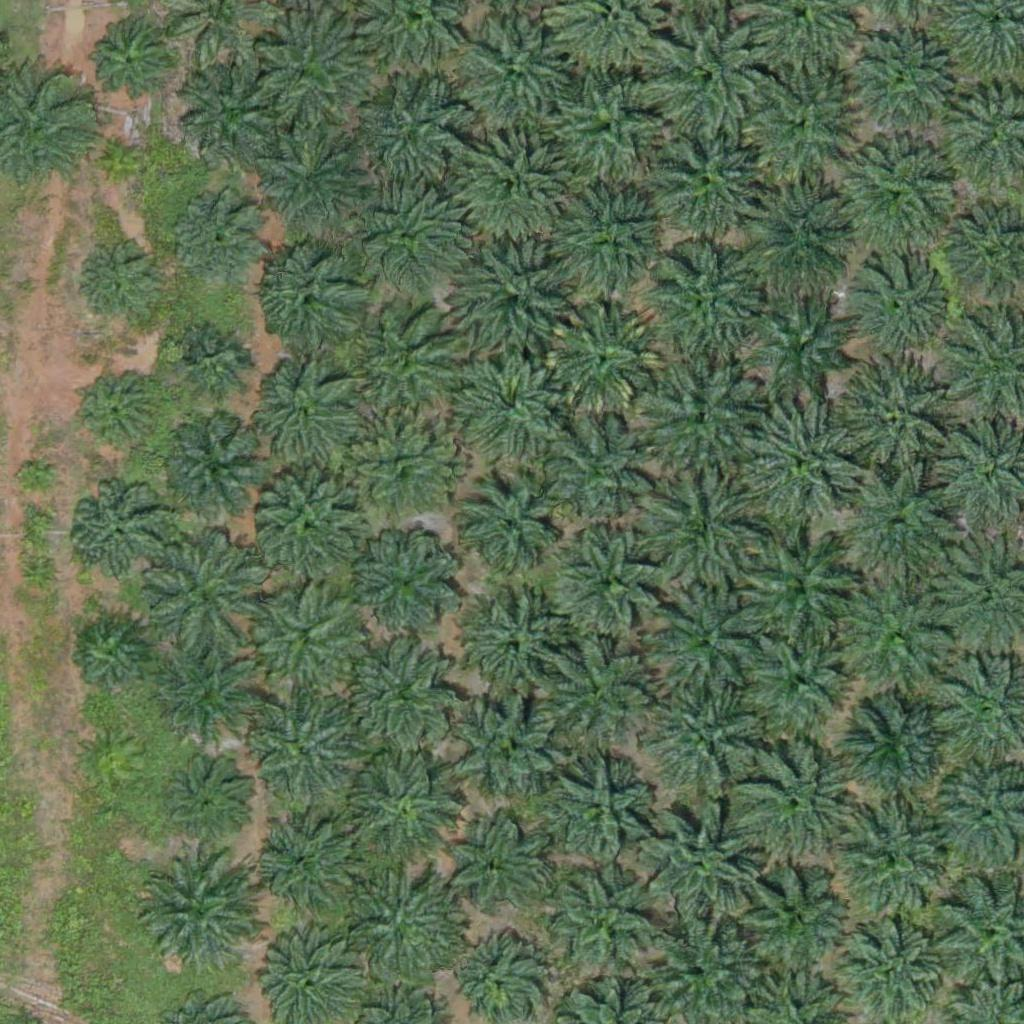Kelapa_Sawit: (841, 17, 966, 143), (829, 354, 954, 480), (837, 465, 962, 591), (733, 400, 858, 526), (737, 170, 862, 296), (733, 63, 858, 189), (645, 13, 770, 139), (641, 116, 766, 242), (641, 235, 766, 361), (639, 355, 764, 481), (629, 470, 754, 596), (250, 5, 375, 131), (139, 529, 264, 655), (132, 849, 257, 975), (542, 863, 667, 989), (645, 578, 770, 704), (643, 672, 768, 798), (638, 807, 763, 933), (735, 517, 860, 643), (739, 616, 864, 742), (735, 737, 860, 863), (725, 850, 850, 976), (827, 572, 952, 698), (344, 864, 469, 989), (553, 71, 666, 185), (553, 179, 666, 293), (839, 804, 952, 918), (348, 305, 461, 418), (342, 411, 455, 524), (254, 472, 367, 585), (244, 356, 357, 469), (254, 240, 367, 353), (259, 122, 372, 235), (352, 522, 465, 635), (460, 592, 573, 705), (347, 637, 460, 750), (347, 750, 460, 863), (445, 688, 558, 801), (842, 692, 955, 805), (456, 131, 568, 245), (460, 20, 572, 134), (539, 639, 651, 753), (841, 144, 953, 257), (547, 301, 659, 414), (546, 417, 658, 530), (453, 470, 565, 583), (453, 346, 565, 459), (460, 244, 572, 357), (352, 78, 464, 191), (351, 179, 463, 292), (179, 61, 291, 174), (554, 526, 666, 639), (252, 588, 364, 701), (153, 639, 265, 752), (248, 695, 360, 808), (541, 752, 653, 865), (849, 253, 949, 354), (172, 190, 272, 291), (164, 421, 264, 522), (256, 816, 356, 917), (444, 816, 544, 917), (751, 294, 851, 394), (68, 484, 168, 584), (77, 242, 165, 330), (75, 370, 163, 458), (87, 18, 175, 106), (165, 753, 252, 841), (74, 618, 149, 694), (176, 325, 251, 400), (110, 141, 148, 179), (18, 461, 55, 499)
